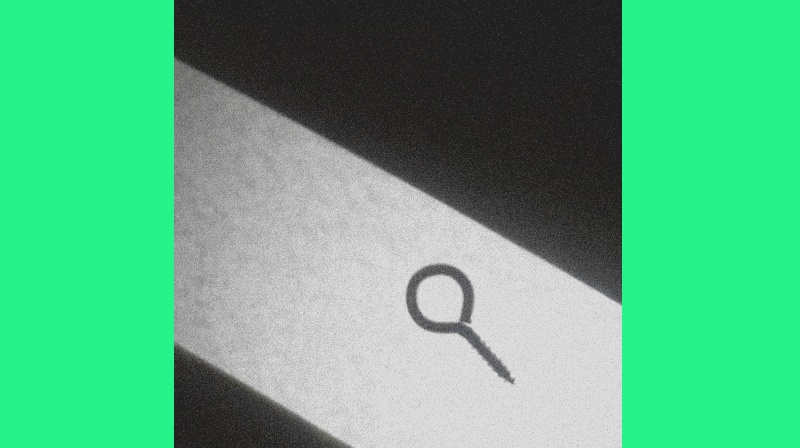O001: (401, 260, 522, 389)
